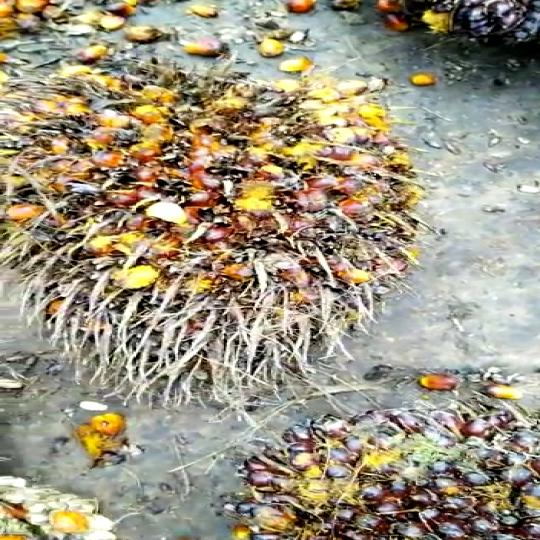terlalu masak: (0, 56, 428, 395)
